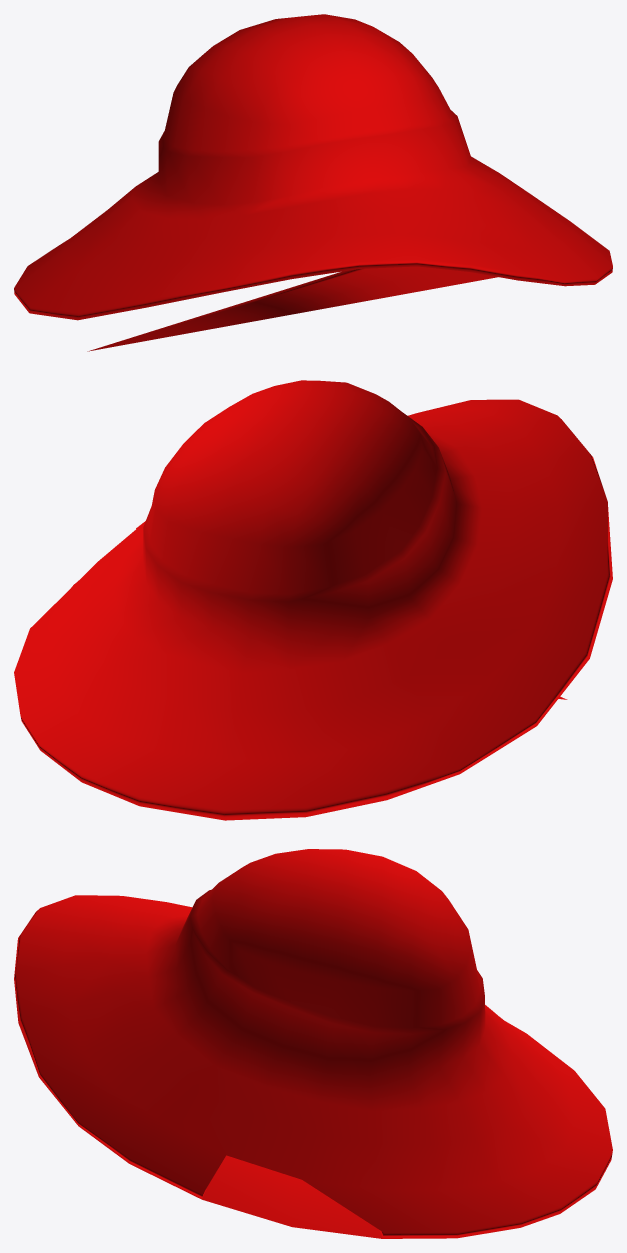
File: Hat_SunHat.glb
3 views of the same model, one above another, from view 1: azimuth 30°, elevation 25°; view 2: azimuth 150°, elevation 25°; view 3: azimuth 270°, elevation 25° (orthographic). The views are drawn at different scales.
Visible parts, largest first — view 1: Hat_SunHat; view 2: Hat_SunHat; view 3: Hat_SunHat.
Boxes of the visible parts, box(x1,y1,x2,y2) form: Hat_SunHat: box(14, 14, 612, 351); Hat_SunHat: box(14, 380, 612, 820); Hat_SunHat: box(14, 849, 612, 1238).
Size of the model in its own units: 0.5399 by 0.3044 by 0.57.
